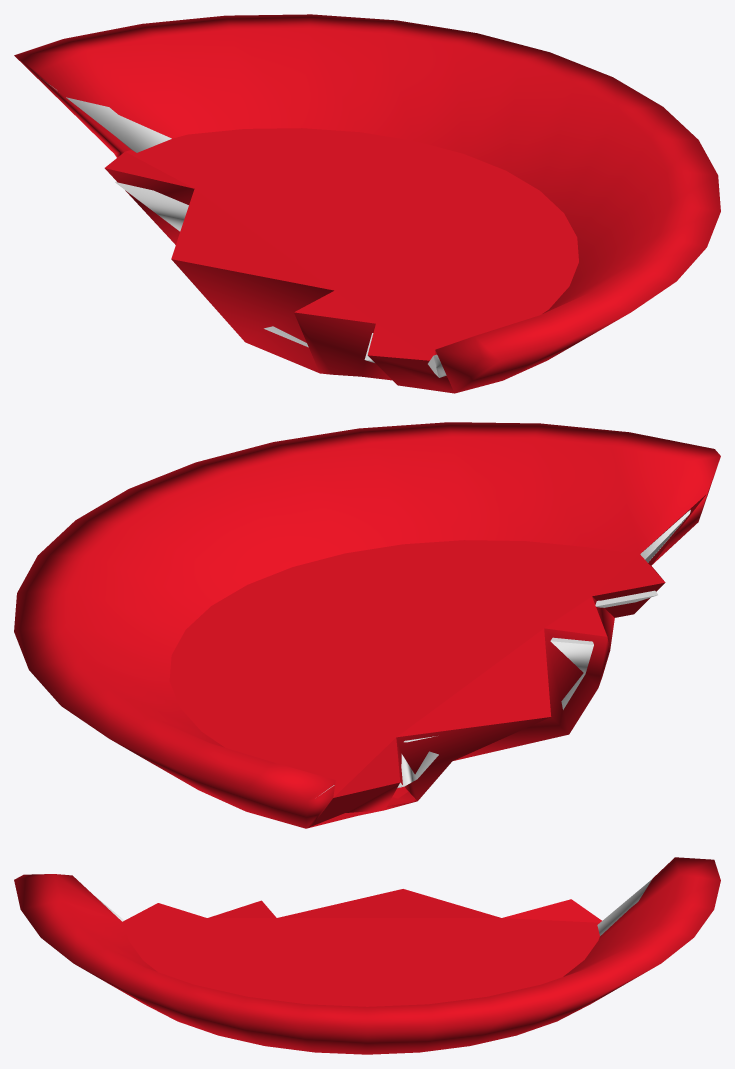
File: MitadPlatoFinal2.fbx
3 renders of one model, top to bottom at view 1: azimuth 30°, elevation 25°; view 2: azimuth 150°, elevation 25°; view 3: azimuth 270°, elevation 25°, orthographic. The views are drawn at different scales.
Visible parts, largest first — view 1: MitadPlato2.001; view 2: MitadPlato2.001; view 3: MitadPlato2.001.
Part boxes in pixels (x1,y1,x2,y2): MitadPlato2.001: [14, 14, 720, 393]; MitadPlato2.001: [14, 422, 720, 828]; MitadPlato2.001: [14, 857, 720, 1054].
Size of the model in its own units: 174 by 42.57 by 282.
